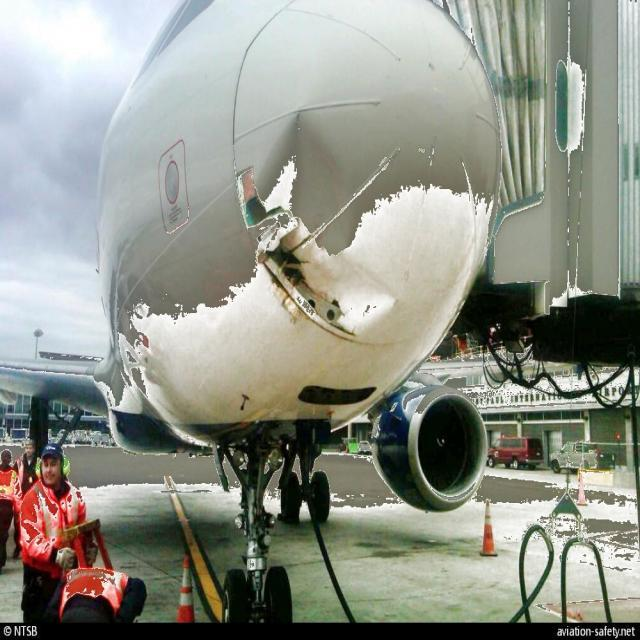dent: (258, 114, 363, 234)
